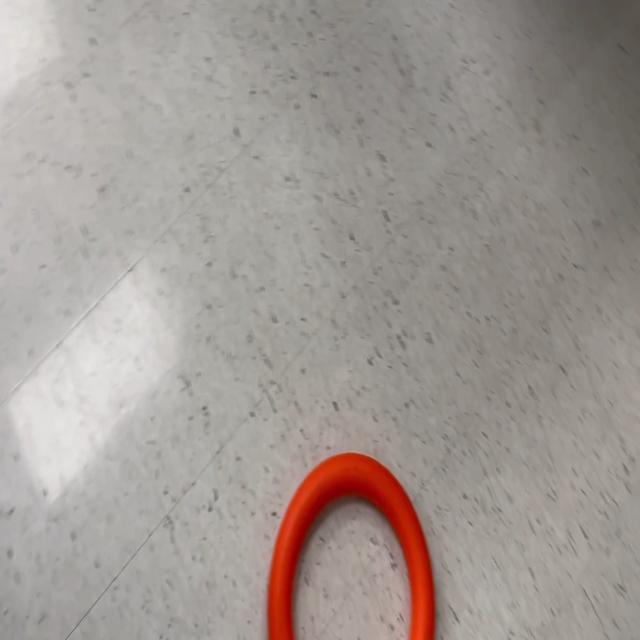note: (267, 452, 438, 640)
